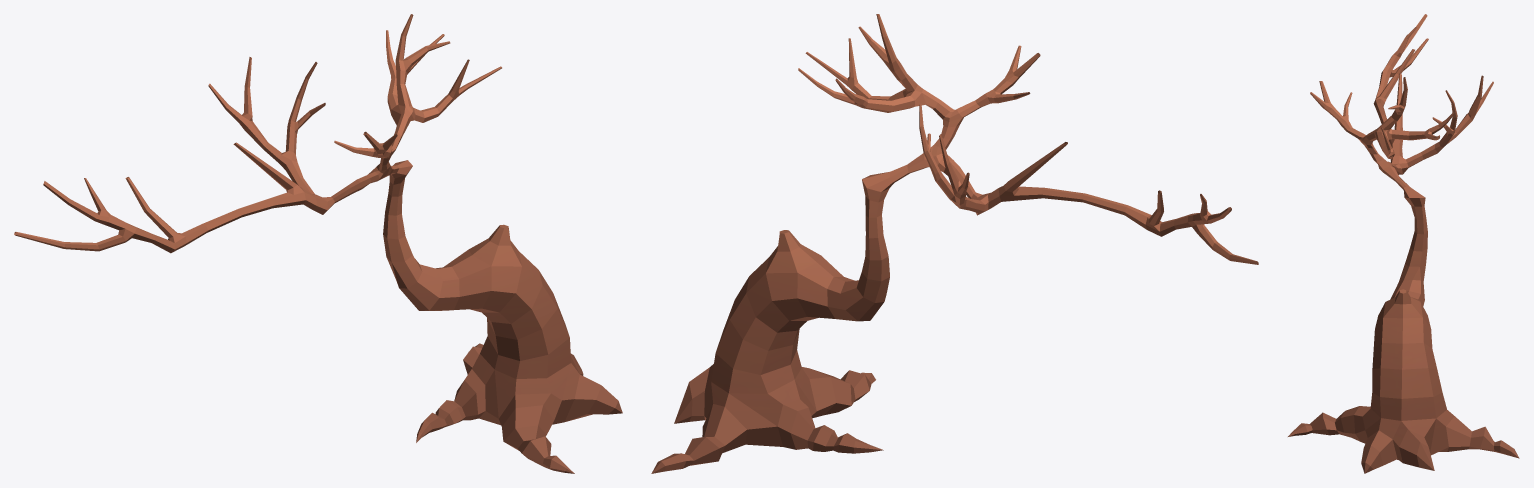
File: wasteland_tree2.fbx
3 renders of one model, left to right at view 1: azimuth 30°, elevation 25°; view 2: azimuth 150°, elevation 25°; view 3: azimuth 270°, elevation 25°, orthographic. The views are drawn at different scales.
Parts seen in each view (by area): view 1: wasteland_tree2; view 2: wasteland_tree2; view 3: wasteland_tree2.
Boxes of the visible parts, x1,y1,x2,y2 form: wasteland_tree2: (14, 14, 622, 473); wasteland_tree2: (651, 14, 1258, 473); wasteland_tree2: (1288, 14, 1519, 473).
Size of the model in its own units: 5.79 by 4.15 by 2.66.
